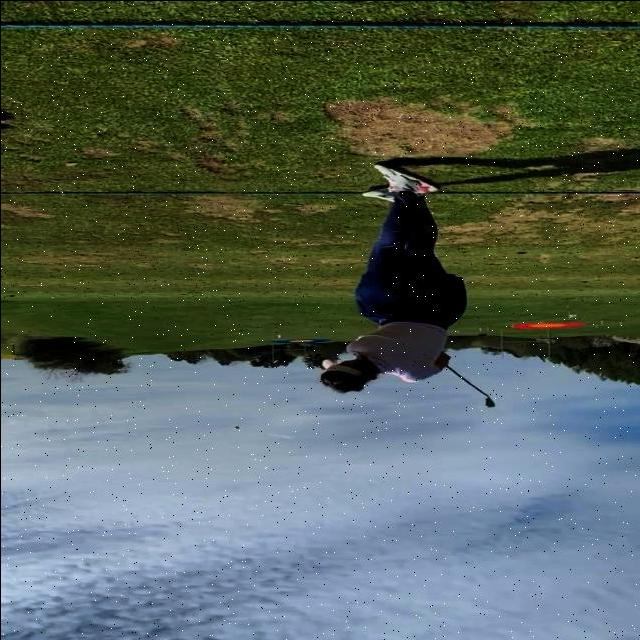golf ball: (232, 425, 238, 428)
golf club-handle: (445, 365, 493, 407)
golf club-head: (484, 396, 494, 407)
